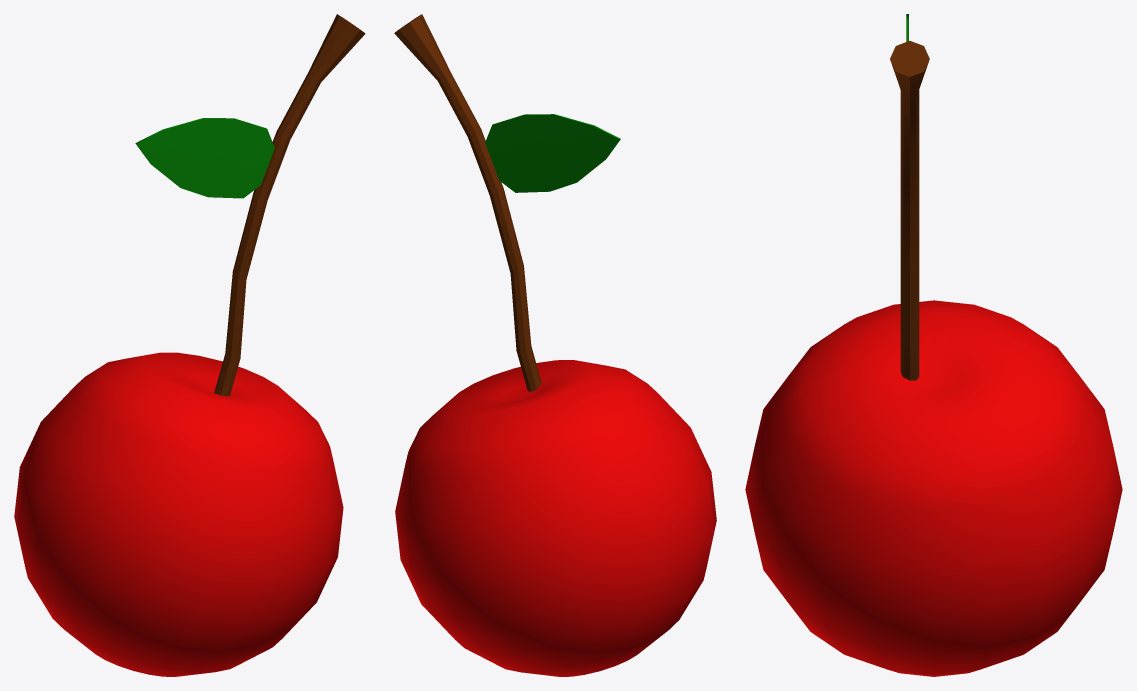
File: level19.1.fbx
3 views of the same model, side by side, from view 1: azimuth 30°, elevation 25°; view 2: azimuth 150°, elevation 25°; view 3: azimuth 270°, elevation 25° (orthographic). The views are drawn at different scales.
Parts seen in each view (by area): view 1: pCube2; view 2: pCube2; view 3: pCube2.
Part boxes in pixels (x1,y1,x2,y2): pCube2: (14, 14, 365, 676); pCube2: (394, 14, 716, 676); pCube2: (745, 14, 1122, 676).
Size of the model in its own units: 4.95 by 9.21 by 4.47.
